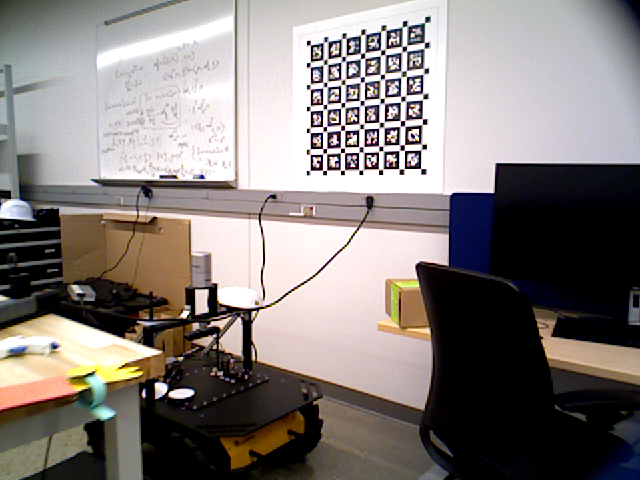painting4: (292, 1, 442, 195)
